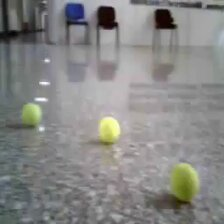tennis: (169, 163, 197, 201), (21, 103, 42, 128), (98, 117, 119, 142)
